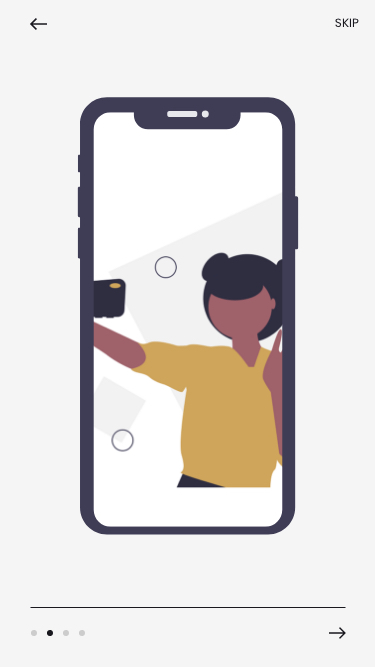Icon: (30, 18, 48, 31), (329, 627, 347, 639)
Image: (78, 98, 299, 536)
PageIndicator: (31, 629, 87, 638)
Text: (335, 18, 359, 29)
